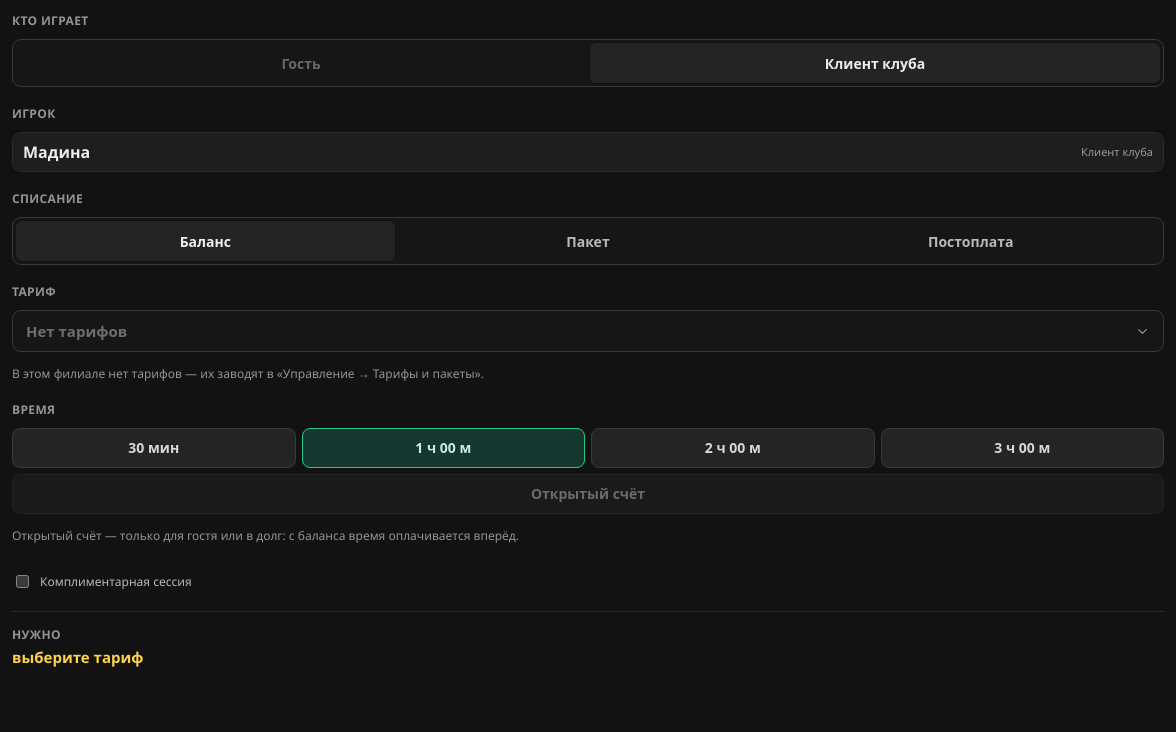
Test: SessionStartForm › говорит, где завести тарифы, когда их нет
This screenshot has width=1176, height=732.
Expected: the text "В этом филиале нет тарифов — их заводят в «Управление → Тарифы и пакеты»." is shown, 12,365 -> 484,382
Click the tab "Пакет". click: (588, 241)
box: 399,221 -> 777,261
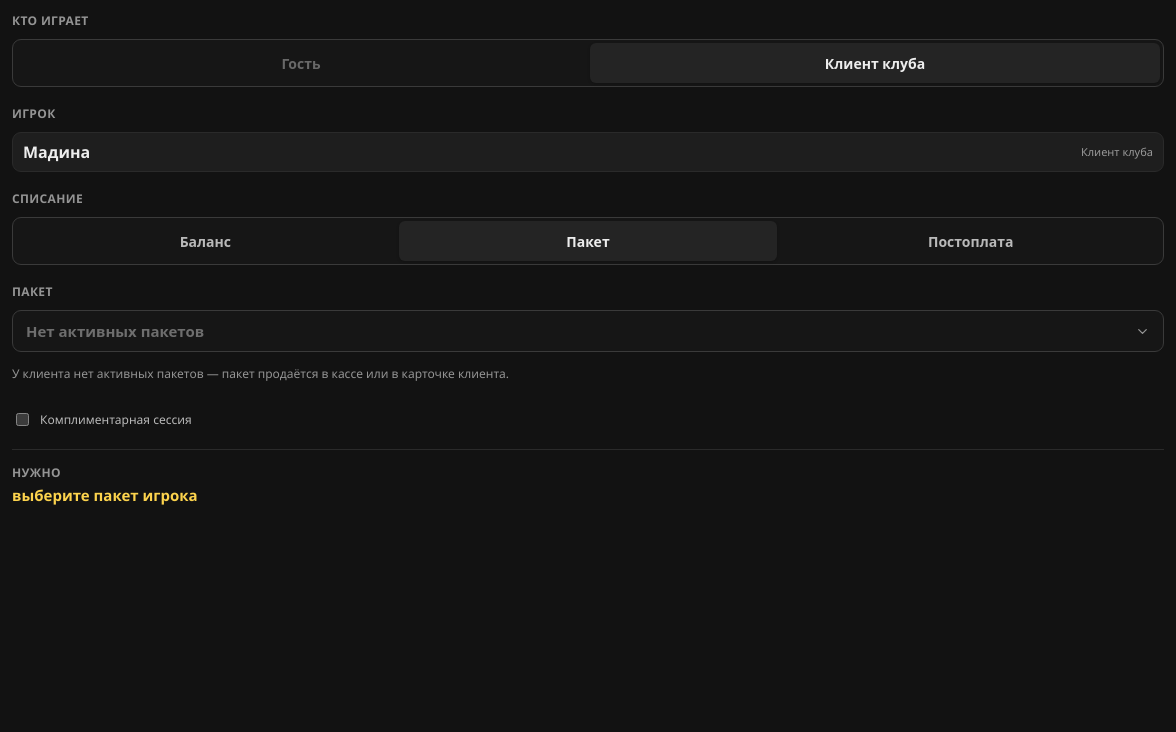
Expected: the text "нет активных пакетов — пакет продаётся в кассе" is shown, 12,365 -> 509,382
